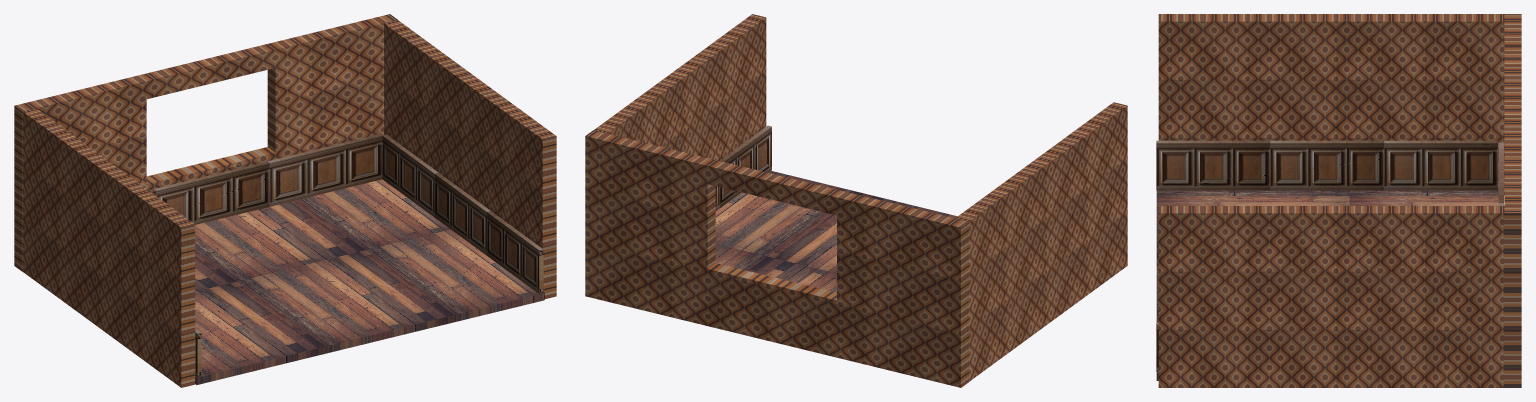
File: room.gltf
3 renders of one model, left to right at view 1: azimuth 30°, elevation 25°; view 2: azimuth 150°, elevation 25°; view 3: azimuth 270°, elevation 25°, orthographic. The views are drawn at different scales.
Parts seen in each view (by area): view 1: floor, wall.1, wall2, wall3, Plane, Plane.002; view 2: wall2, wall.1, wall3, floor, Plane.002; view 3: wall3, wall.1, Plane.001, wall2, floor, Plane.
Part boxes in pixels (left/top/right/bottom): floor: left=195, top=179, right=544, bottom=384; wall.1: left=22, top=108, right=195, bottom=387; wall2: left=14, top=14, right=397, bottom=271; wall3: left=384, top=20, right=556, bottom=298; Plane: left=149, top=134, right=382, bottom=224; Plane.002: left=382, top=134, right=543, bottom=293; wall2: left=585, top=130, right=968, bottom=387; wall.1: left=955, top=102, right=1127, bottom=381; wall3: left=594, top=14, right=766, bottom=160; floor: left=715, top=171, right=957, bottom=292; Plane.002: left=715, top=125, right=771, bottom=210; wall3: left=1158, top=206, right=1504, bottom=387; wall.1: left=1158, top=14, right=1504, bottom=195; Plane.001: left=1156, top=140, right=1497, bottom=190; wall2: left=1504, top=14, right=1521, bottom=387; floor: left=1156, top=188, right=1498, bottom=380; Plane: left=1498, top=142, right=1503, bottom=205.
Bounding box in the file's own units: 5.4 × 2.2 × 4.18.
Materials: 7 (7 with a texture image).
